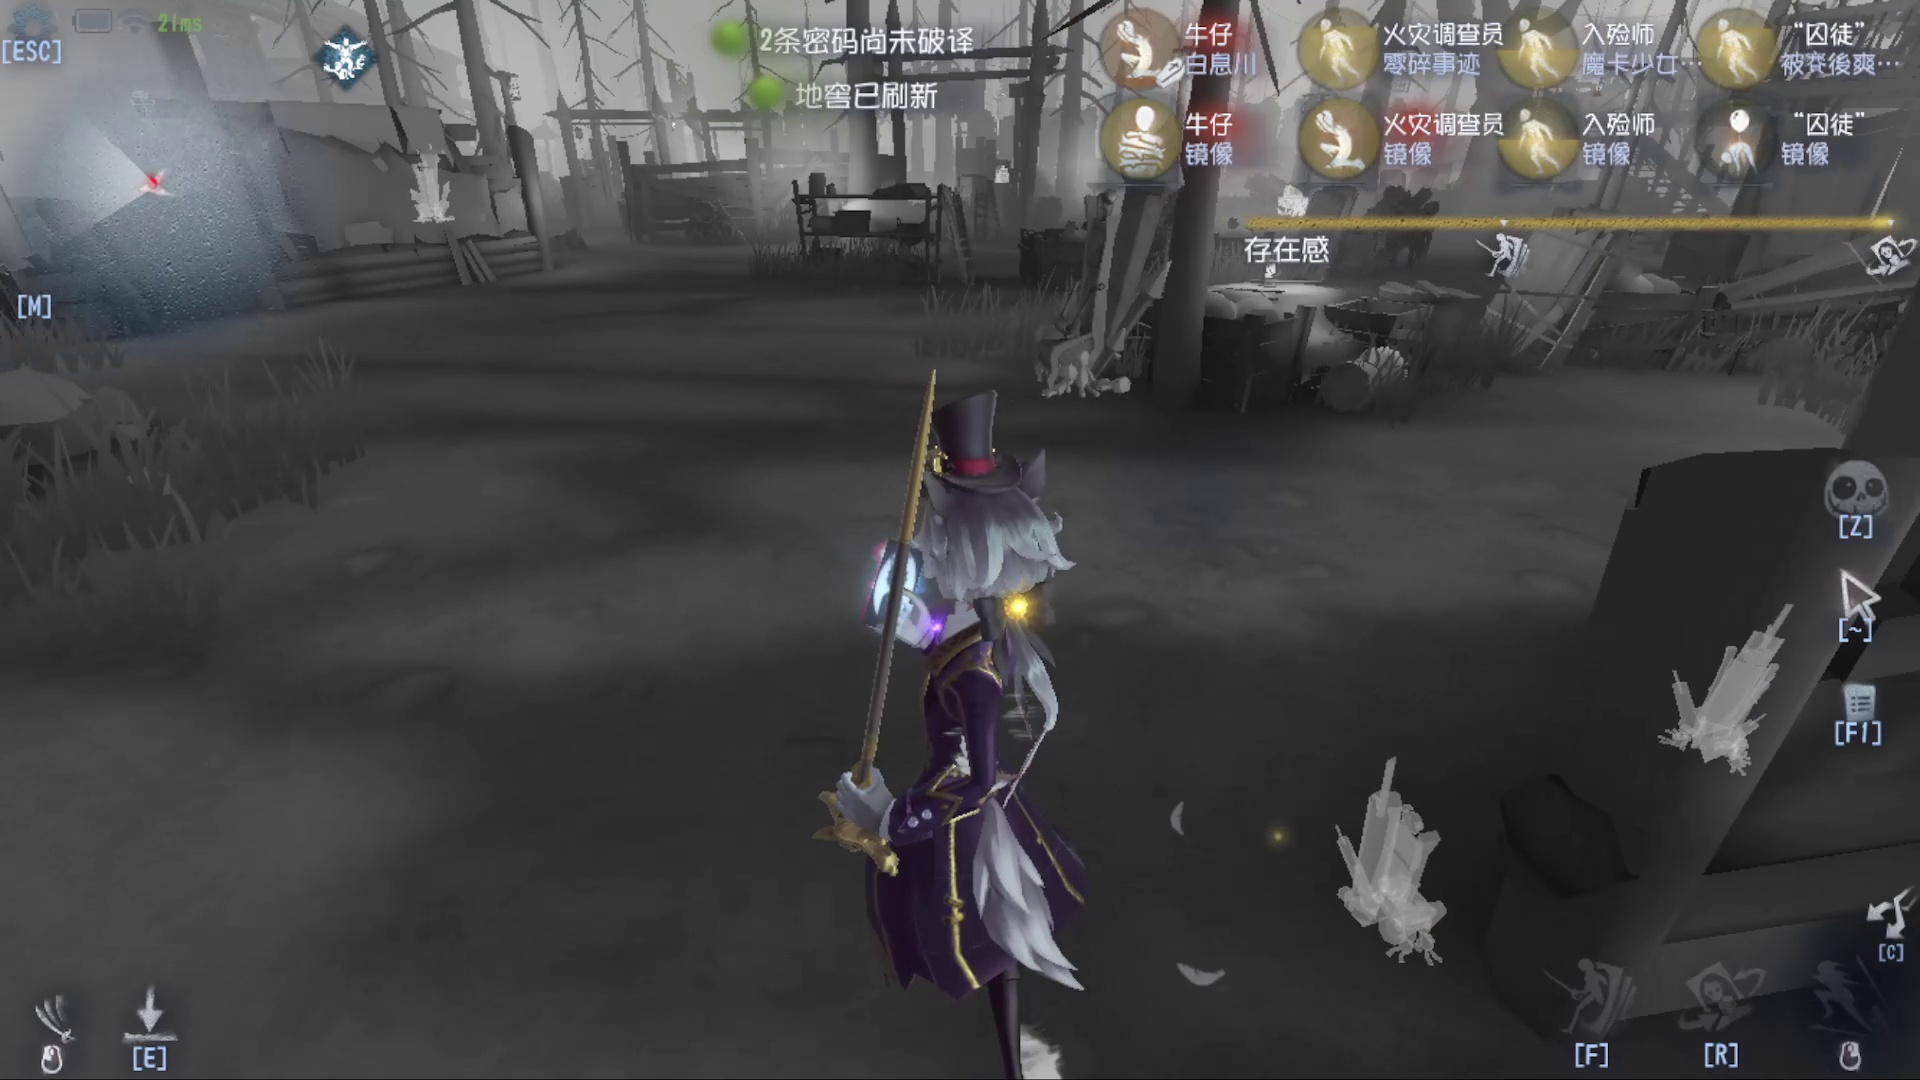狂欢之椅: (1004, 152, 1195, 429), (1317, 746, 1473, 986), (1673, 585, 1812, 783)
